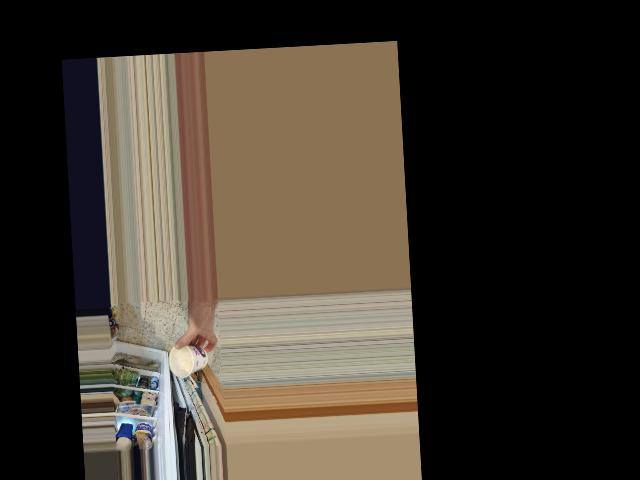cotage: (168, 343, 207, 375)
